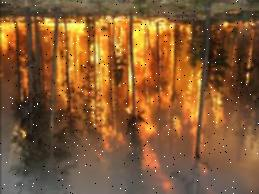fire: (58, 21, 132, 160), (137, 24, 199, 182), (1, 16, 54, 62), (206, 87, 224, 132), (221, 16, 259, 34)
